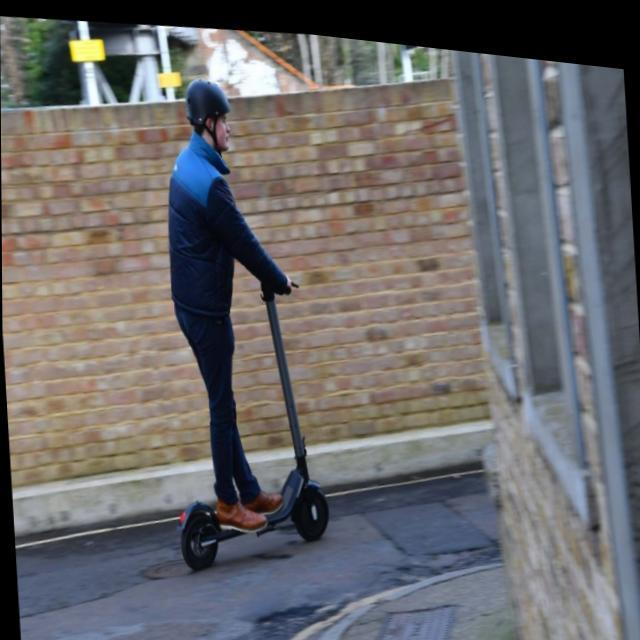Helmet: (176, 67, 243, 163)
